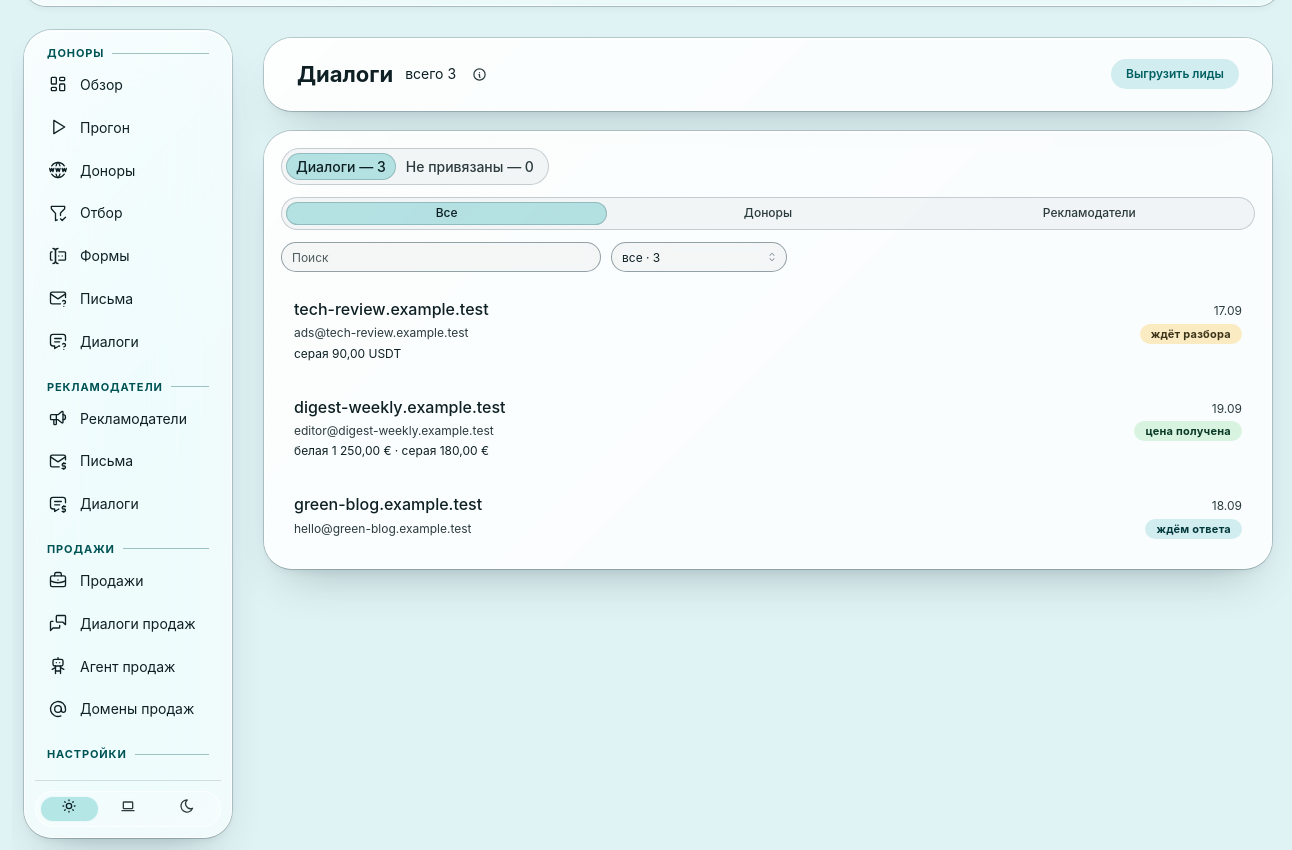
Scenario: диалоги › поиск идёт и по донору, и по адресу, и уходит в адрес экрана
Check: the text "digest-weekly.example.test" is shown, box [294, 395, 506, 420]
Step 1. Type "hello@" into the field named "Поиск по донору или адресу" → (441, 257), box [281, 242, 601, 272]
(page scrolled)
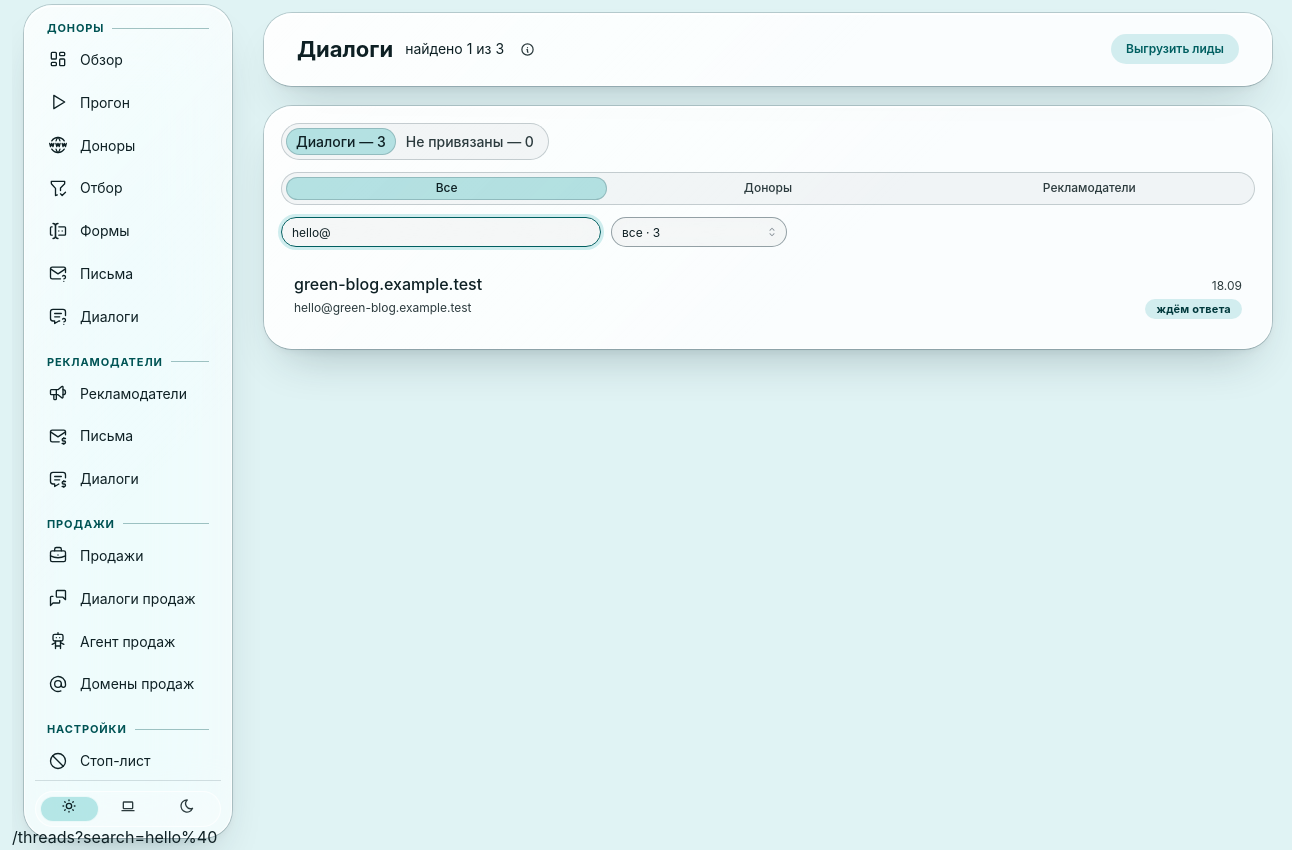
Check: the text with test id "where" reads "/threads?search=hello%40", box [12, 827, 217, 847]
